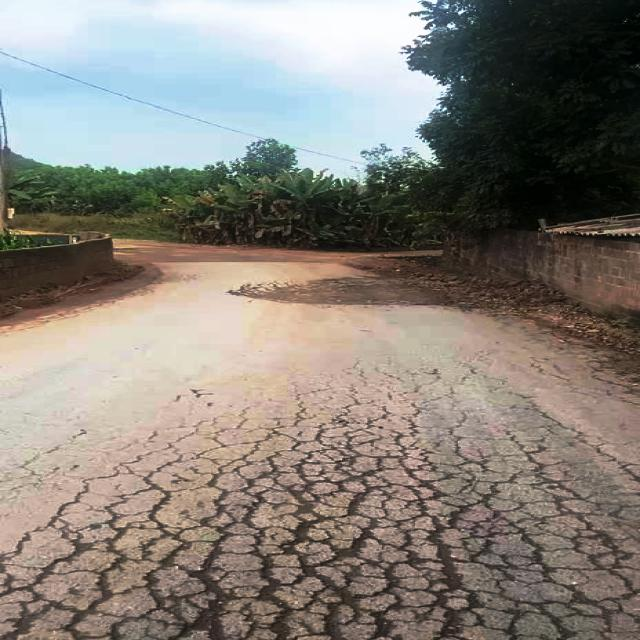pothole: (226, 270, 457, 312)
